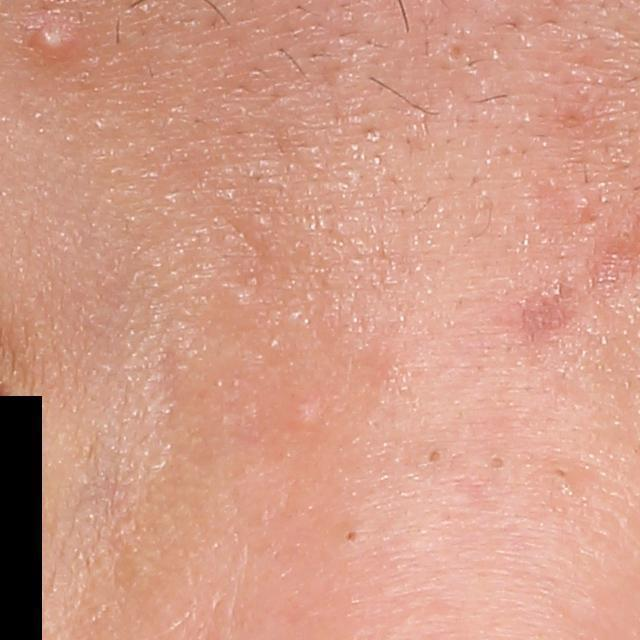comedo: (294, 398, 326, 429), (484, 453, 508, 472), (553, 463, 571, 481), (341, 526, 359, 543), (425, 451, 442, 466)
pustule: (27, 7, 90, 72)
